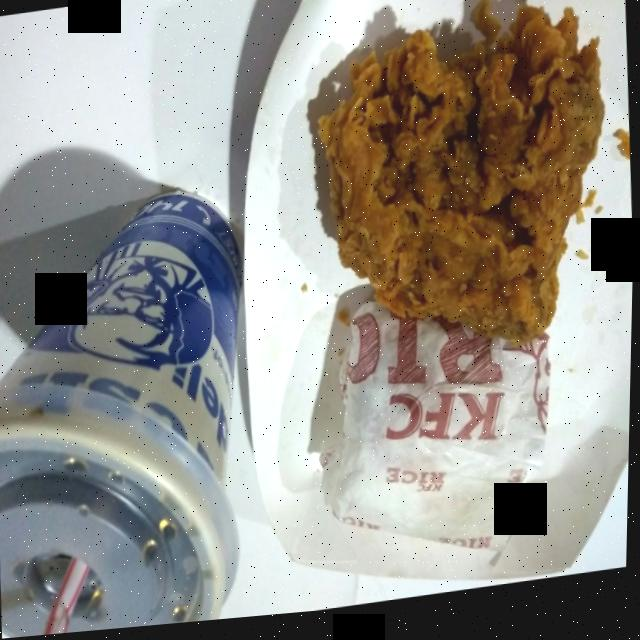Frango: (305, 27, 629, 385)
